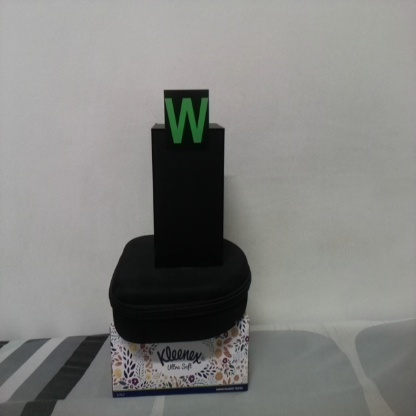id_12: (164, 90, 211, 152)
